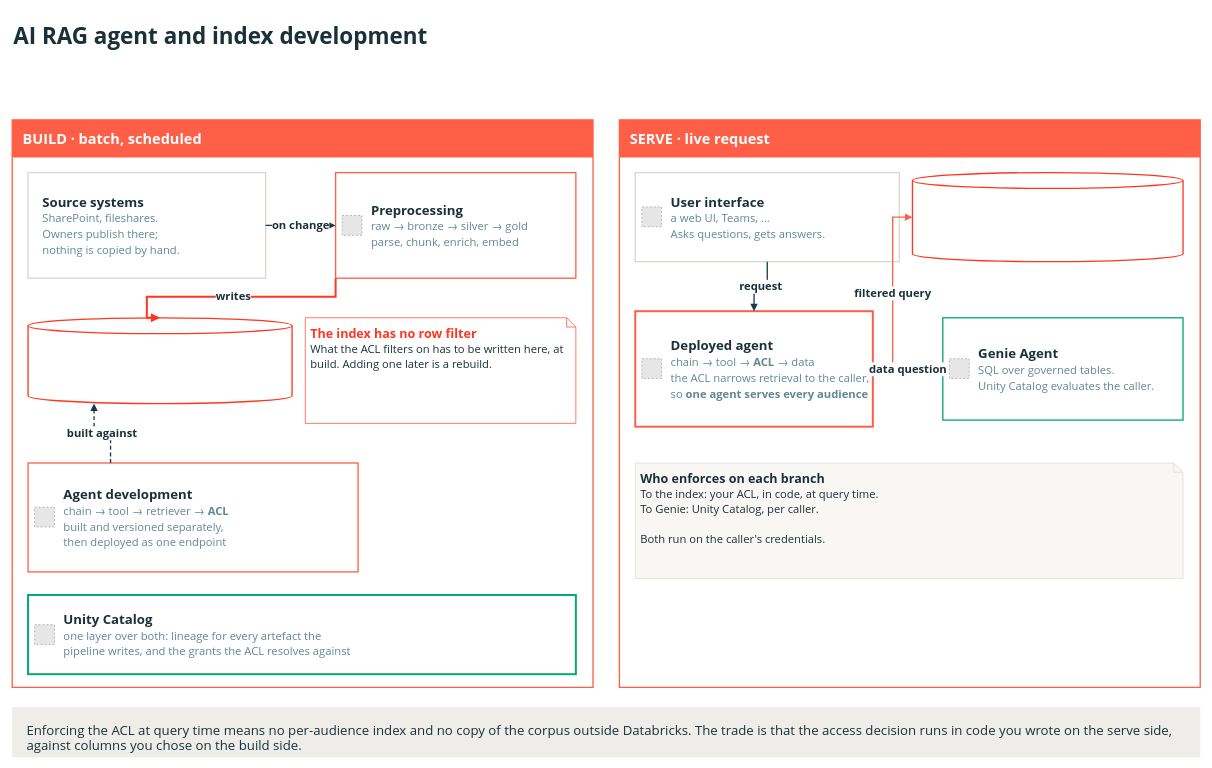
Some shapes in this 1212 by 768 pixel diagram are drawn without their labels. Grey dashed boxes stand in for pictures. Each missing label, with the centre of its shape:
AI Search index written only here: (x=159, y=360)
the same AI Search index read at query time, never written: (x=1047, y=217)
